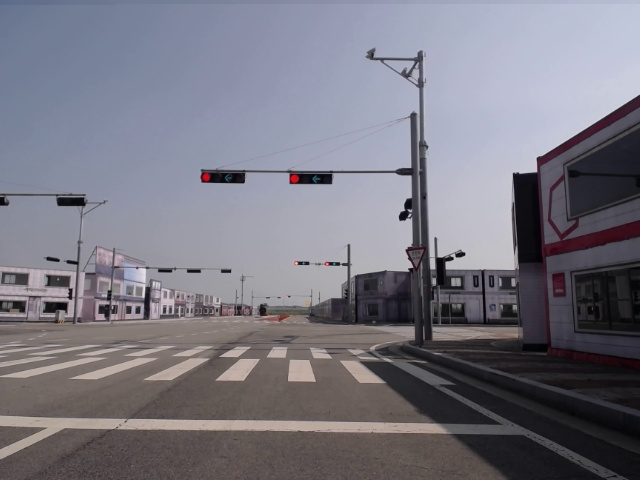left_green_4: (200, 172, 244, 184), (289, 174, 332, 183)
